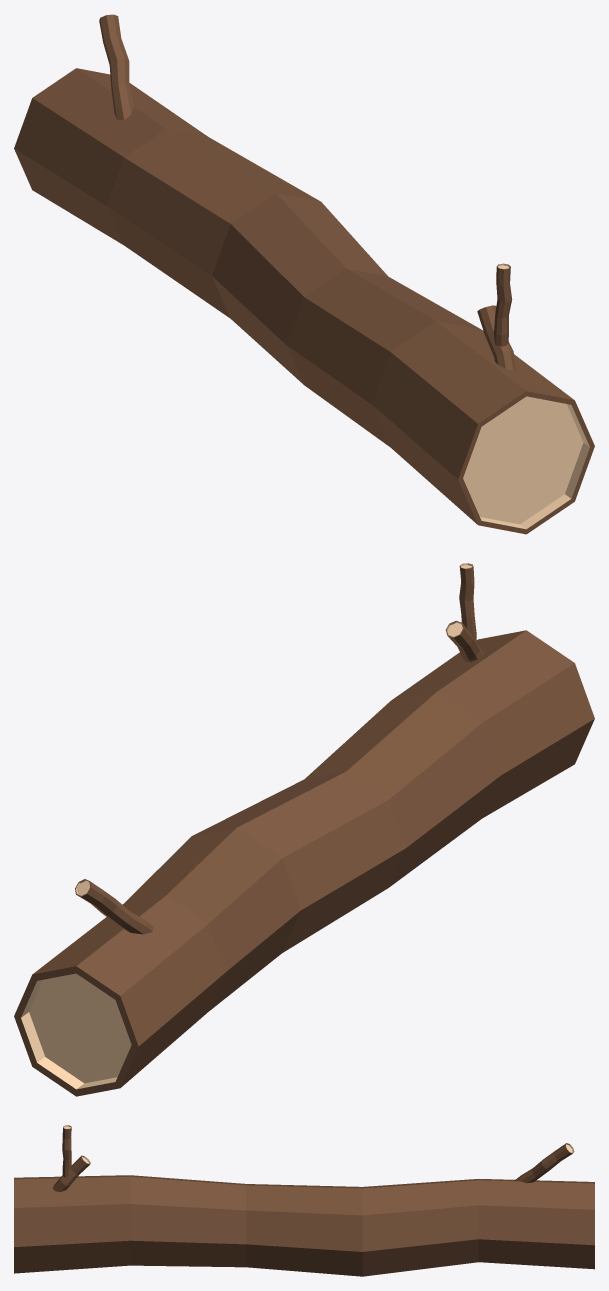
File: Odun.fbx
3 renders of one model, top to bottom at view 1: azimuth 30°, elevation 25°; view 2: azimuth 150°, elevation 25°; view 3: azimuth 270°, elevation 25°, orthographic. The views are drawn at different scales.
Visible parts, largest first — view 1: Cylinder.002; view 2: Cylinder.002; view 3: Cylinder.002.
Boxes of the visible parts, x1,y1,x2,y2 form: Cylinder.002: (14,14,594,534); Cylinder.002: (14,563,594,1096); Cylinder.002: (14,1125,594,1276).
Bounding box in the file's own units: 0.7764 × 1.14 × 3.98.
